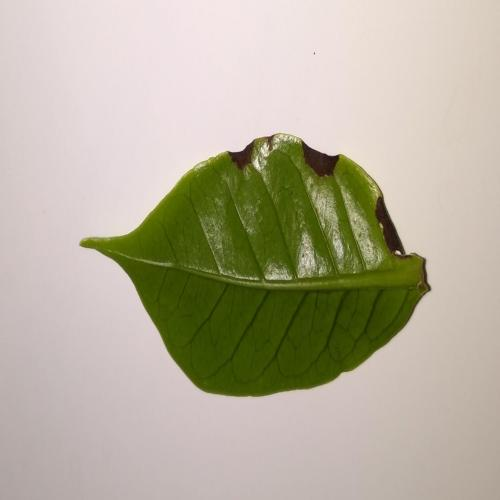miner: (229, 139, 255, 169)
